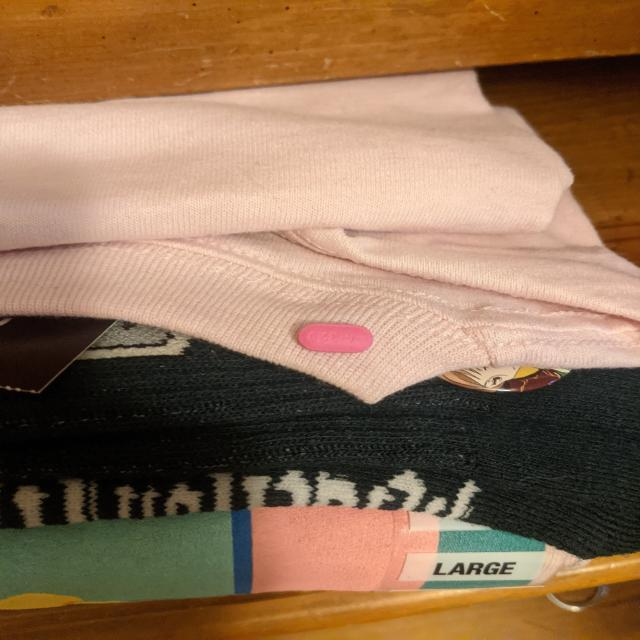non-organic waste: (296, 322, 374, 354)
